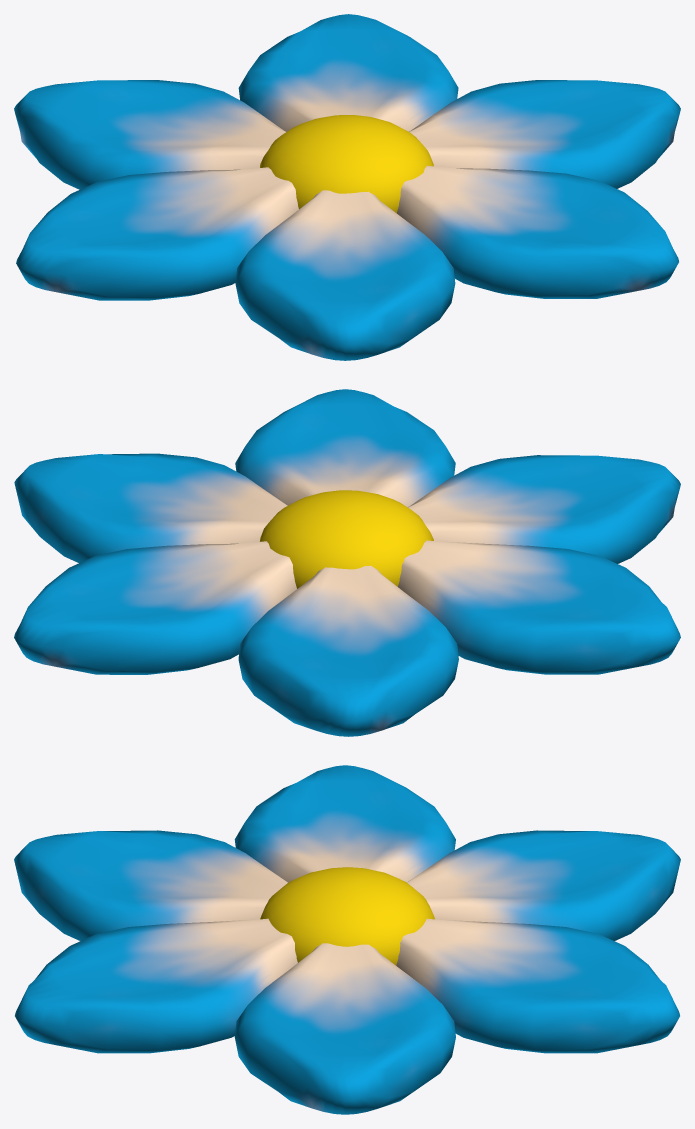
The model's file is hoa6.fbx.
The picture shows the model from 3 angles, top to bottom: view 1: azimuth 30°, elevation 25°; view 2: azimuth 150°, elevation 25°; view 3: azimuth 270°, elevation 25°; orthographic projection.
Visible parts, largest first — view 1: polySurface84, pasted__polySurface81, polySurface83, polySurface81, pasted__polySurface82, polySurface82, polySurface33; view 2: polySurface82, pasted__polySurface81, polySurface81, pasted__polySurface82, polySurface83, polySurface84, polySurface33; view 3: polySurface82, polySurface84, pasted__polySurface82, polySurface83, polySurface81, pasted__polySurface81, polySurface33.
Boxes of the visible parts, x1=… form: polySurface84: x1=396, y1=165, x2=678, y2=298; pasted__polySurface81: x1=16, y1=167, x2=298, y2=300; polySurface83: x1=235, y1=190, x2=455, y2=360; polySurface81: x1=14, y1=80, x2=285, y2=189; pasted__polySurface82: x1=409, y1=80, x2=680, y2=188; polySurface82: x1=238, y1=14, x2=458, y2=131; polySurface33: x1=260, y1=115, x2=433, y2=212; polySurface82: x1=14, y1=541, x2=296, y2=674; pasted__polySurface81: x1=398, y1=540, x2=680, y2=674; polySurface81: x1=238, y1=565, x2=458, y2=736; pasted__polySurface82: x1=14, y1=453, x2=287, y2=562; polySurface83: x1=408, y1=455, x2=680, y2=563; polySurface84: x1=235, y1=389, x2=455, y2=507; polySurface33: x1=260, y1=490, x2=433, y2=588; polySurface82: x1=396, y1=918, x2=679, y2=1053; polySurface84: x1=15, y1=918, x2=297, y2=1053; pasted__polySurface82: x1=234, y1=943, x2=455, y2=1114; polySurface83: x1=14, y1=830, x2=287, y2=940; polySurface81: x1=407, y1=830, x2=680, y2=940; pasted__polySurface81: x1=234, y1=765, x2=455, y2=882; polySurface33: x1=260, y1=867, x2=434, y2=965.
Size of the model in its own units: 89.33 by 12.42 by 77.57.
1 material, 1 textured.
